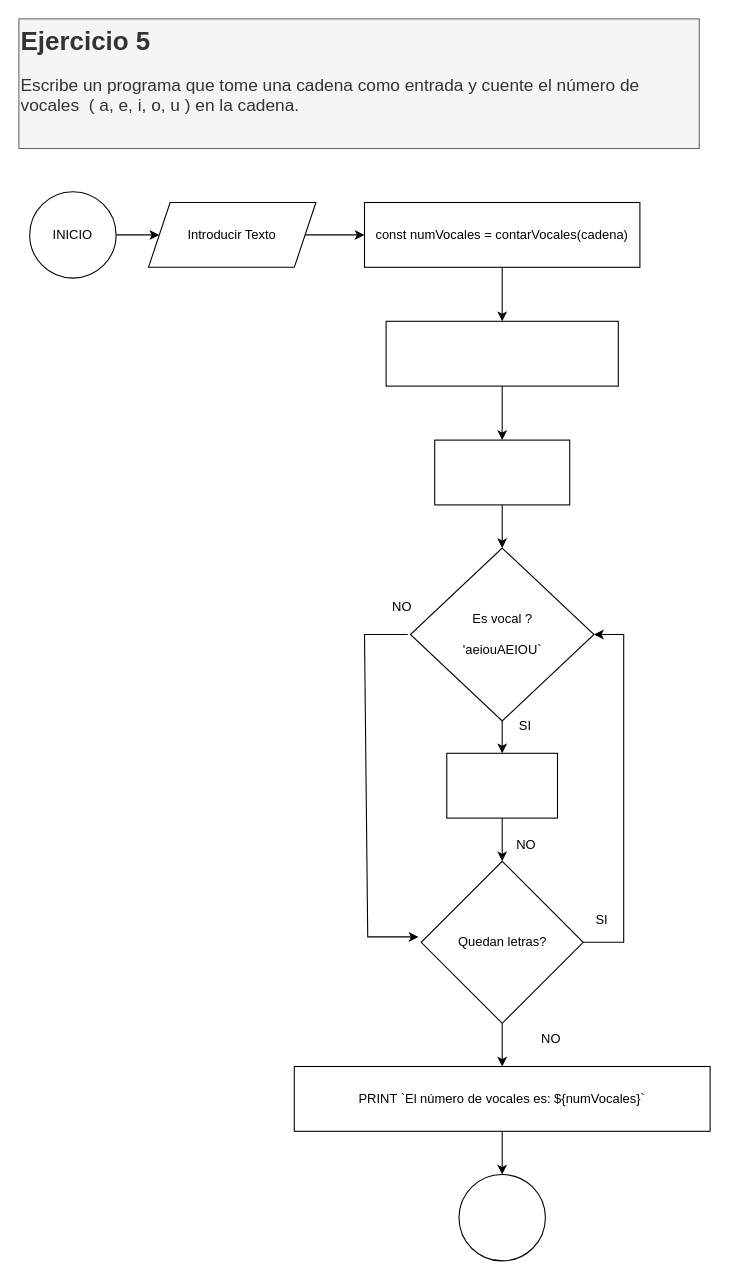
Image size: 729x1280. Some labels were removed from this diagram. Each missing label, with the box of its shape:
const vocales = ' aeiouAEIOU ': (385, 320, 618, 386)
Count + +: (446, 752, 557, 818)
FIN: (458, 1173, 545, 1261)
Let count = 0: (434, 439, 570, 505)
